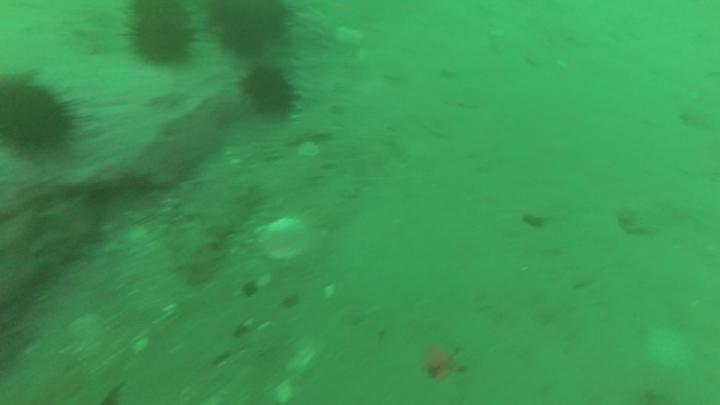echinus: (1, 87, 69, 159), (209, 3, 291, 57), (133, 12, 192, 64), (240, 69, 294, 115)
scallop: (255, 216, 315, 261)
starfish: (424, 342, 465, 383)
